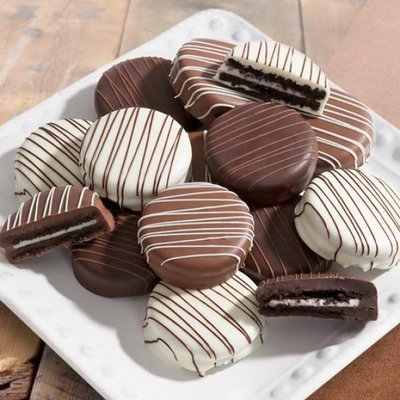sushi: (216, 38, 329, 113), (255, 271, 381, 320)
